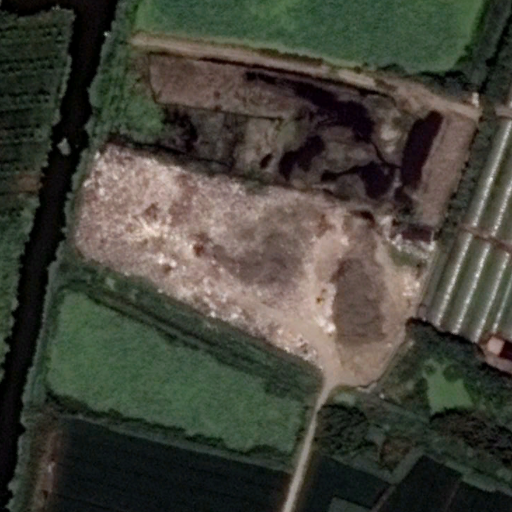msw: (76, 147, 330, 340)
